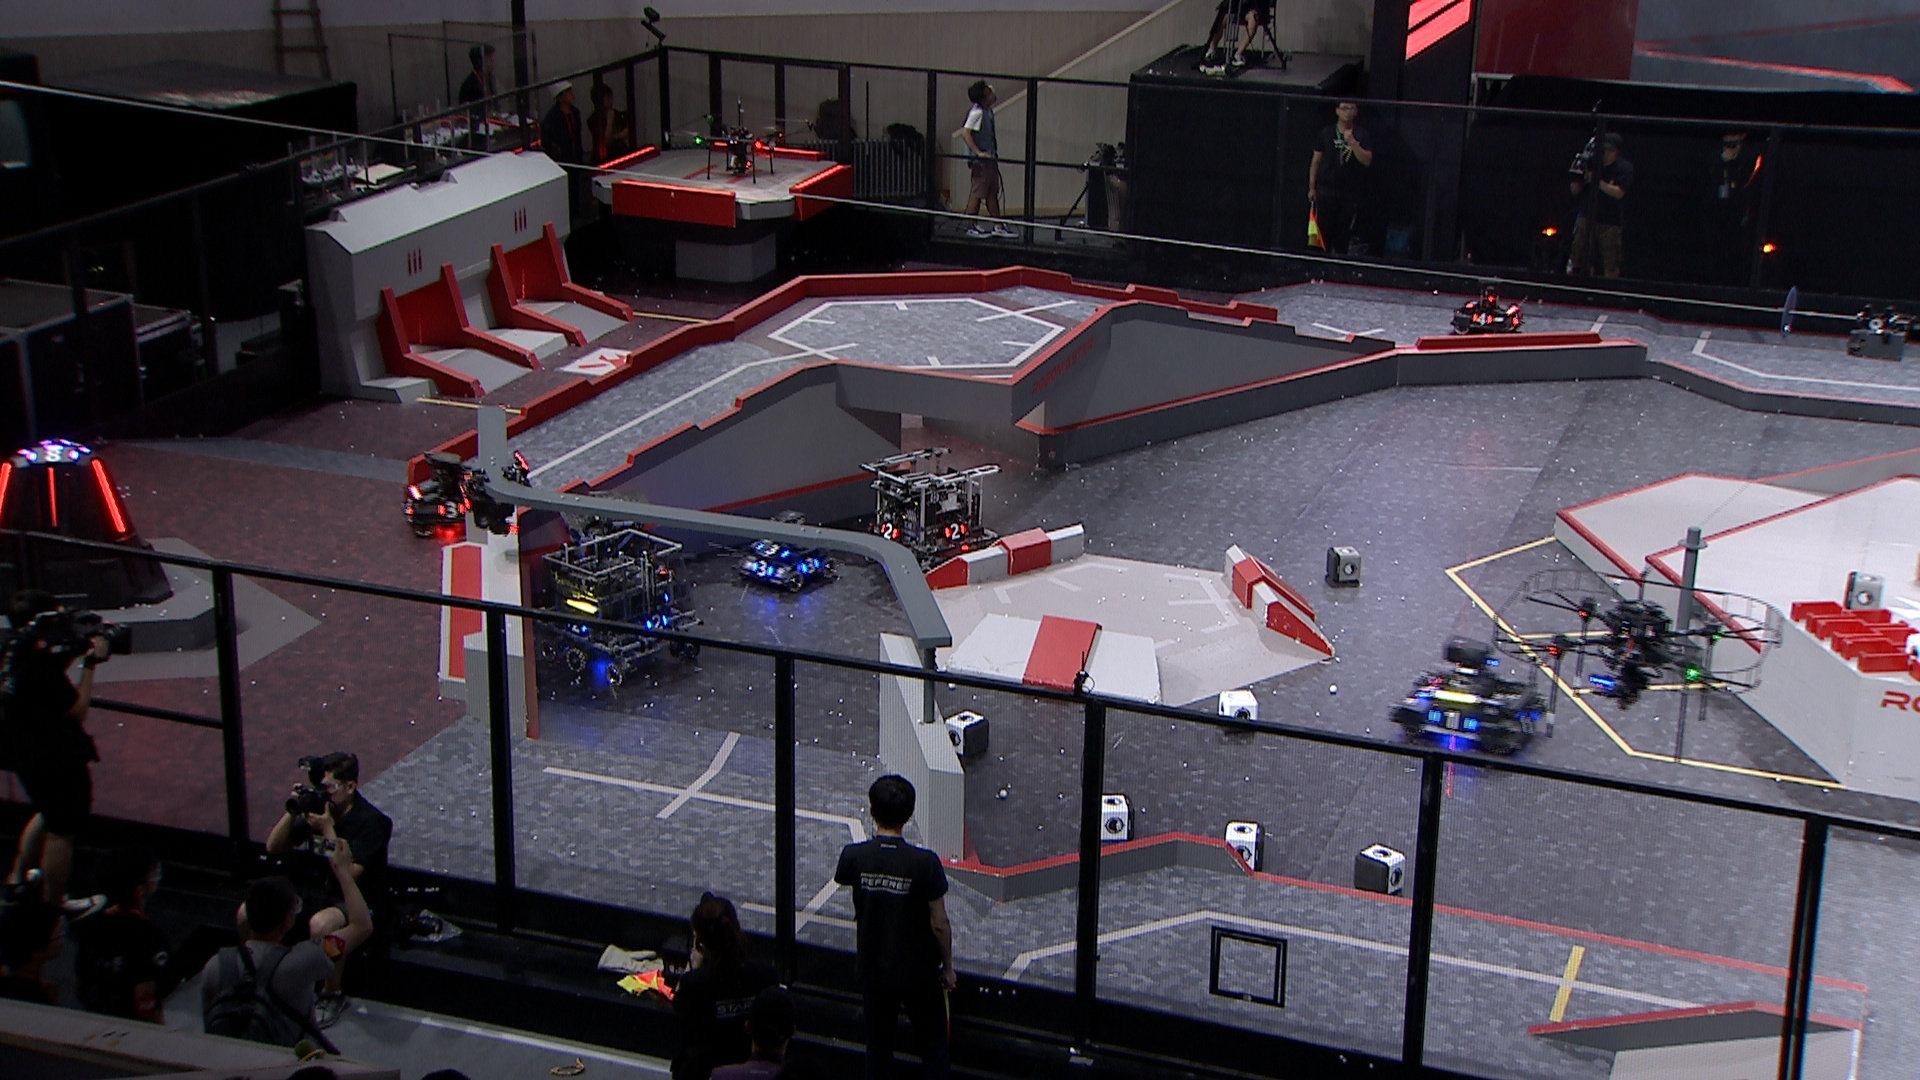armor: (90, 460, 131, 537), (44, 469, 61, 527), (1436, 709, 1470, 733), (1414, 680, 1443, 699), (1516, 713, 1542, 732), (760, 541, 789, 556), (942, 524, 967, 541), (750, 560, 775, 578), (562, 617, 588, 633), (646, 611, 670, 628), (877, 522, 898, 541), (1509, 311, 1524, 332), (799, 556, 822, 571), (439, 502, 465, 514), (401, 495, 417, 514), (1470, 311, 1491, 324)
car: (522, 527, 707, 690), (1393, 637, 1547, 756), (864, 446, 997, 579), (549, 487, 667, 595), (392, 450, 496, 542), (732, 506, 837, 589), (1447, 272, 1527, 342)
ignore: (29, 440, 79, 465)
watcher: (455, 444, 535, 543)
